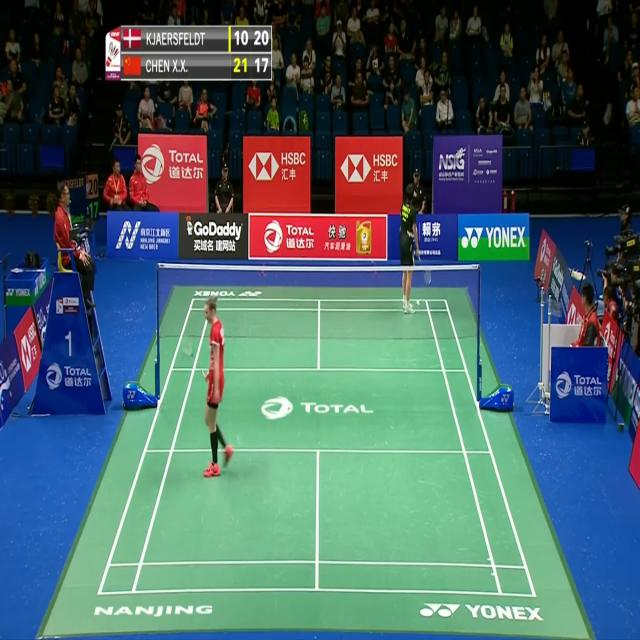Player1: (184, 297, 238, 480)
Player2: (395, 184, 433, 318)
